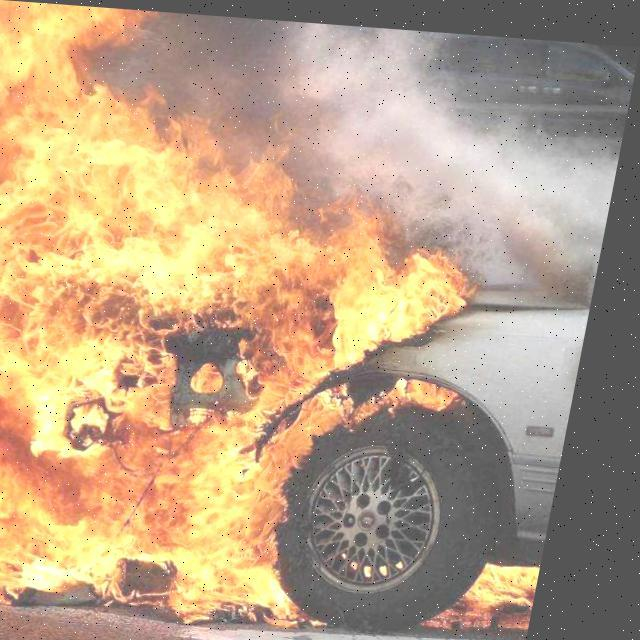Fire: (0, 33, 538, 624), (481, 544, 561, 626)
